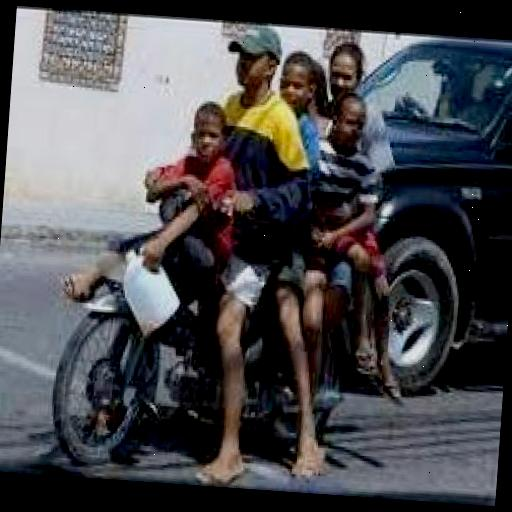no helmet: (208, 21, 302, 118)
triple riding: (50, 10, 443, 462)
